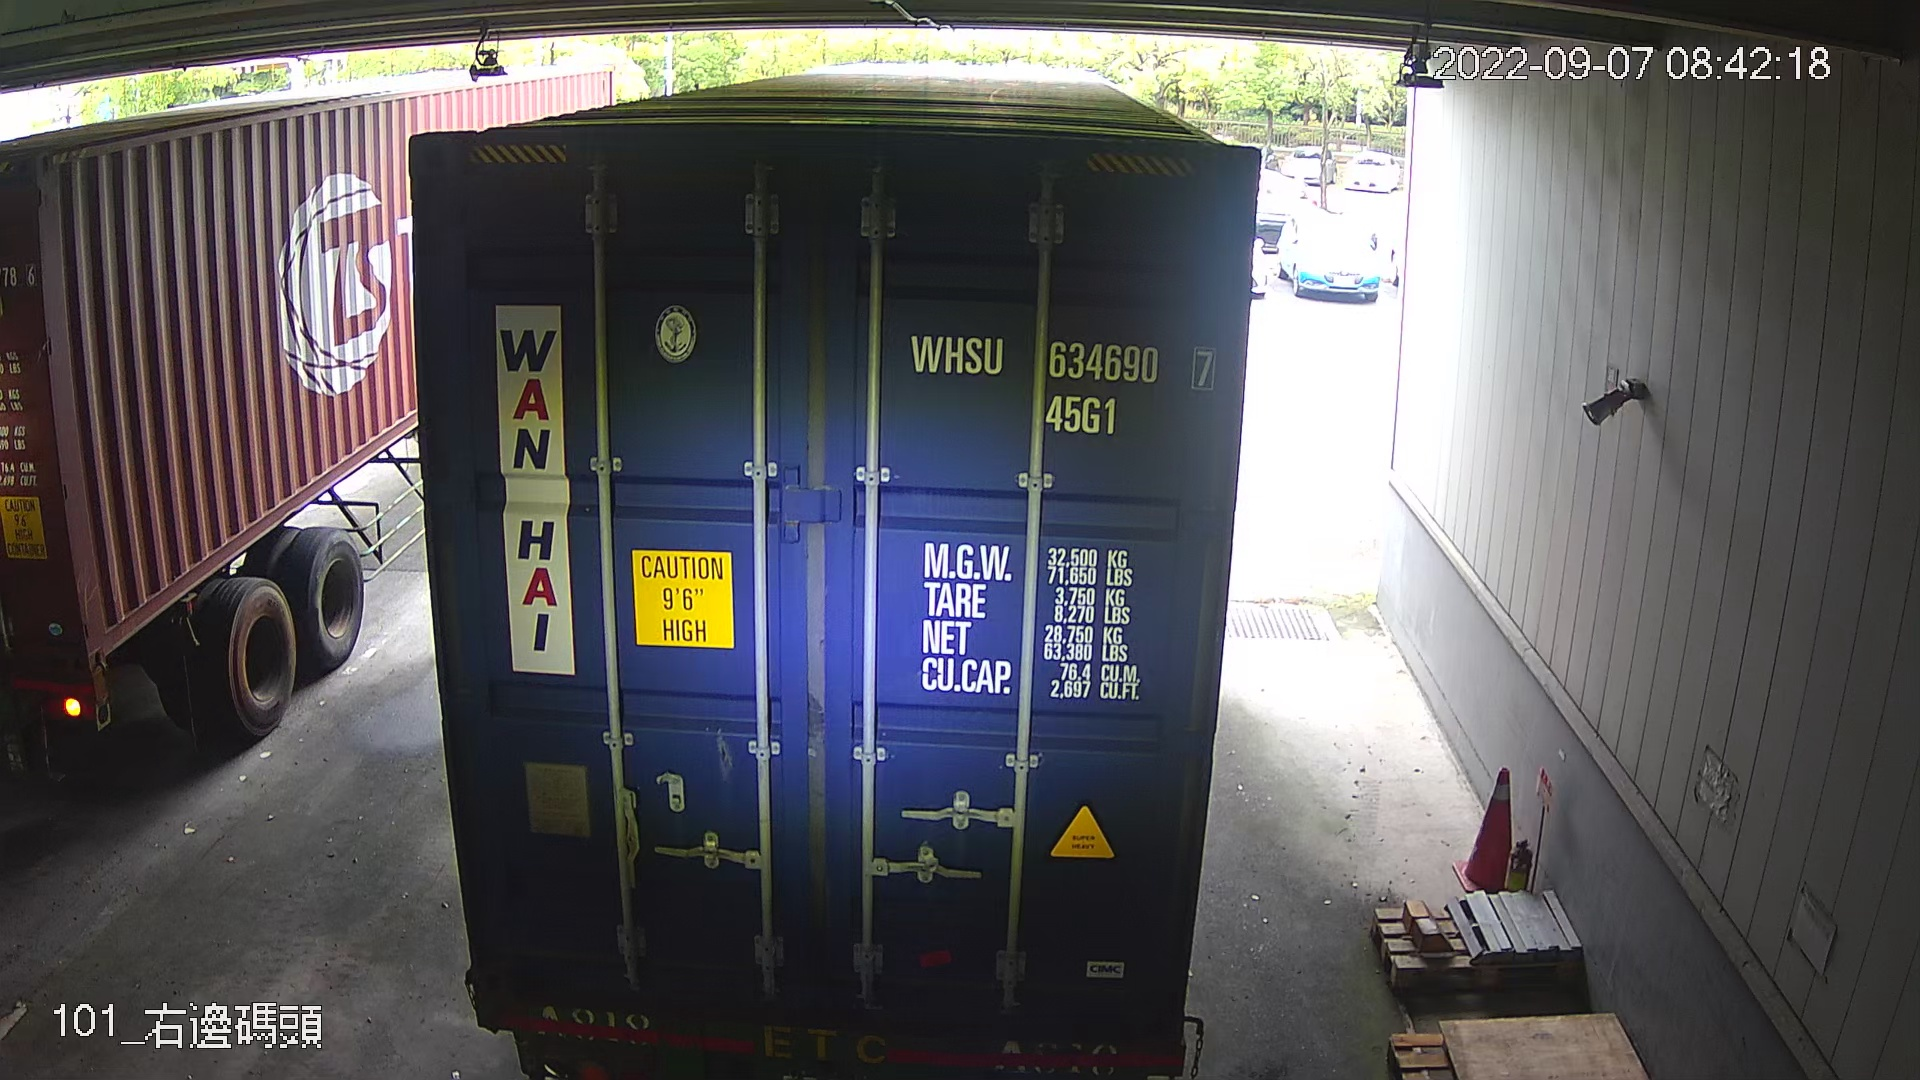container: (898, 311, 1228, 444)
